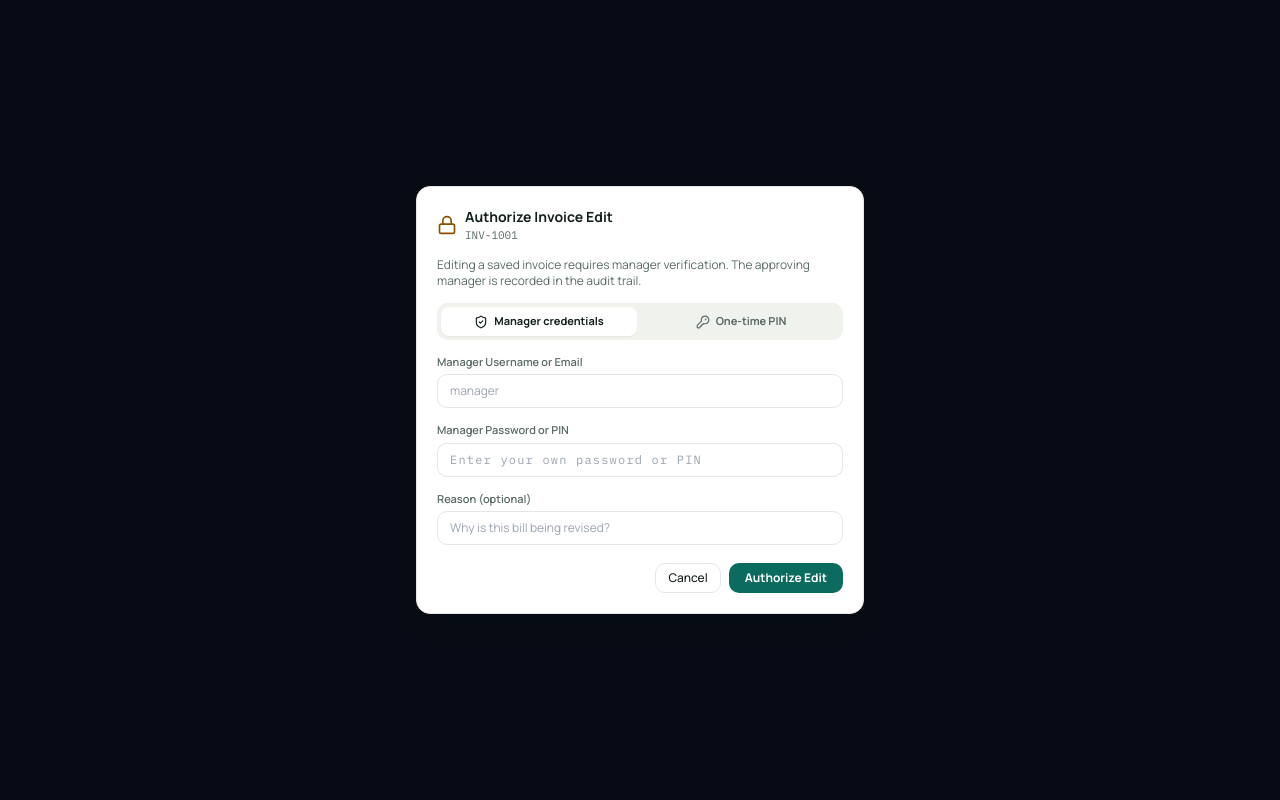
InvoiceApprovalDialog › shows the server error and stays open when approval fails
Type "manager1" into the field labelled "Manager Username or Email" at (640, 391), box x1=437 y1=374 x2=843 y2=408
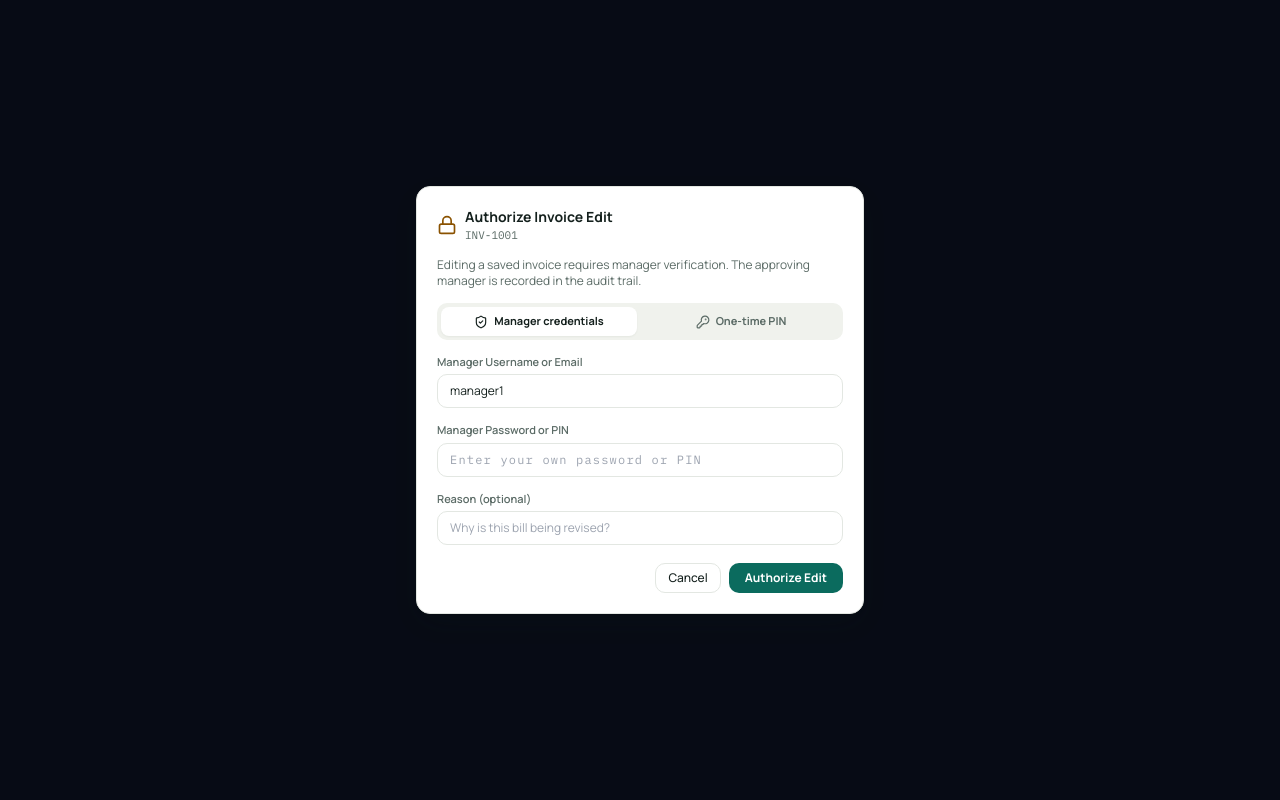
Type "wrong" into the password field labelled "Manager Password or PIN" at (640, 460), box x1=437 y1=443 x2=843 y2=477
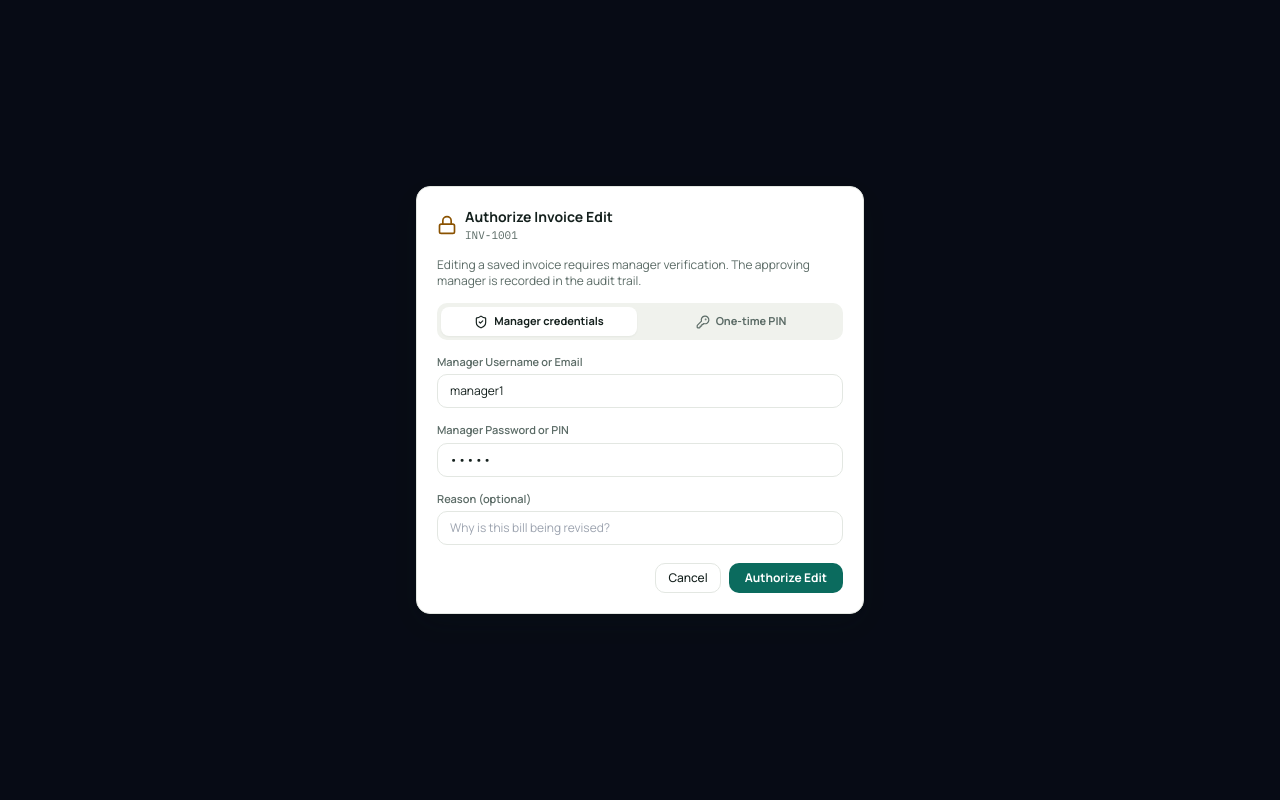
Submit the form, box x1=416 y1=186 x2=864 y2=614
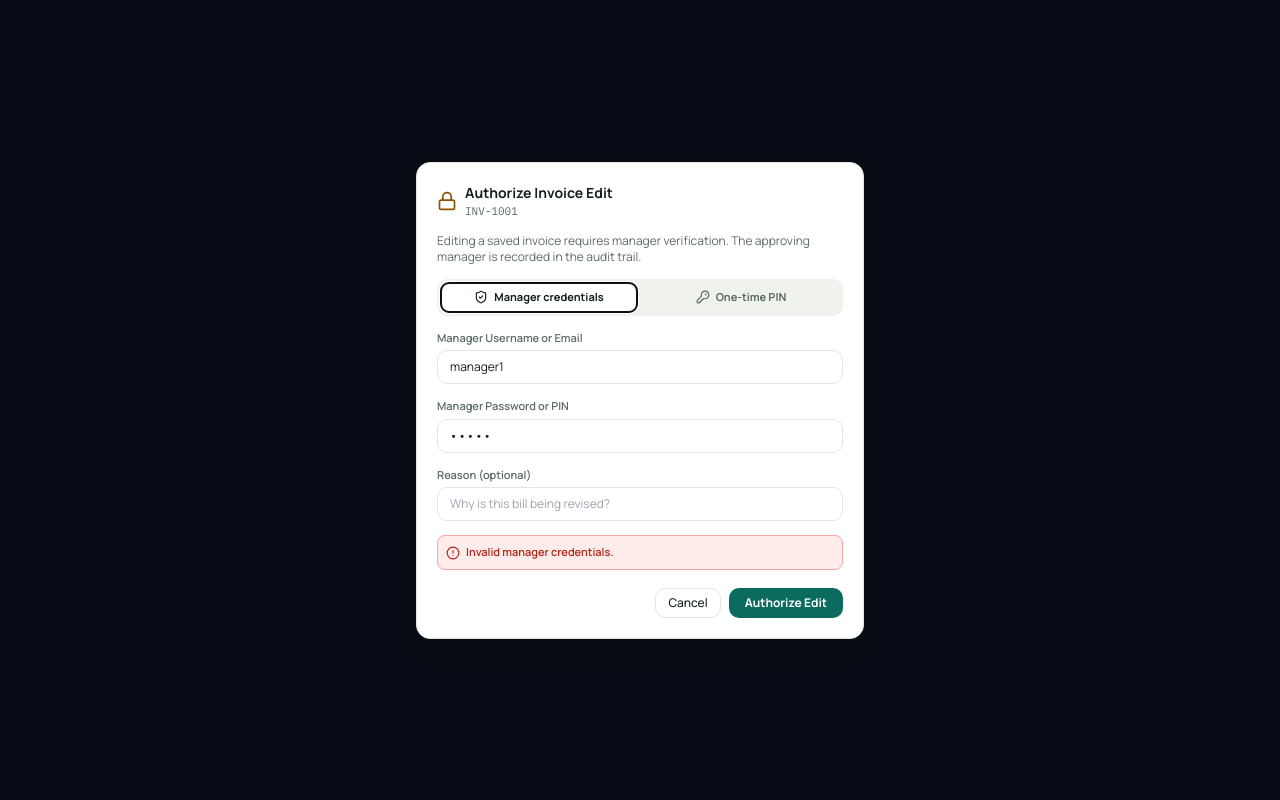
Now the text "Invalid manager credentials." is shown, box x1=466 y1=544 x2=614 y2=560
